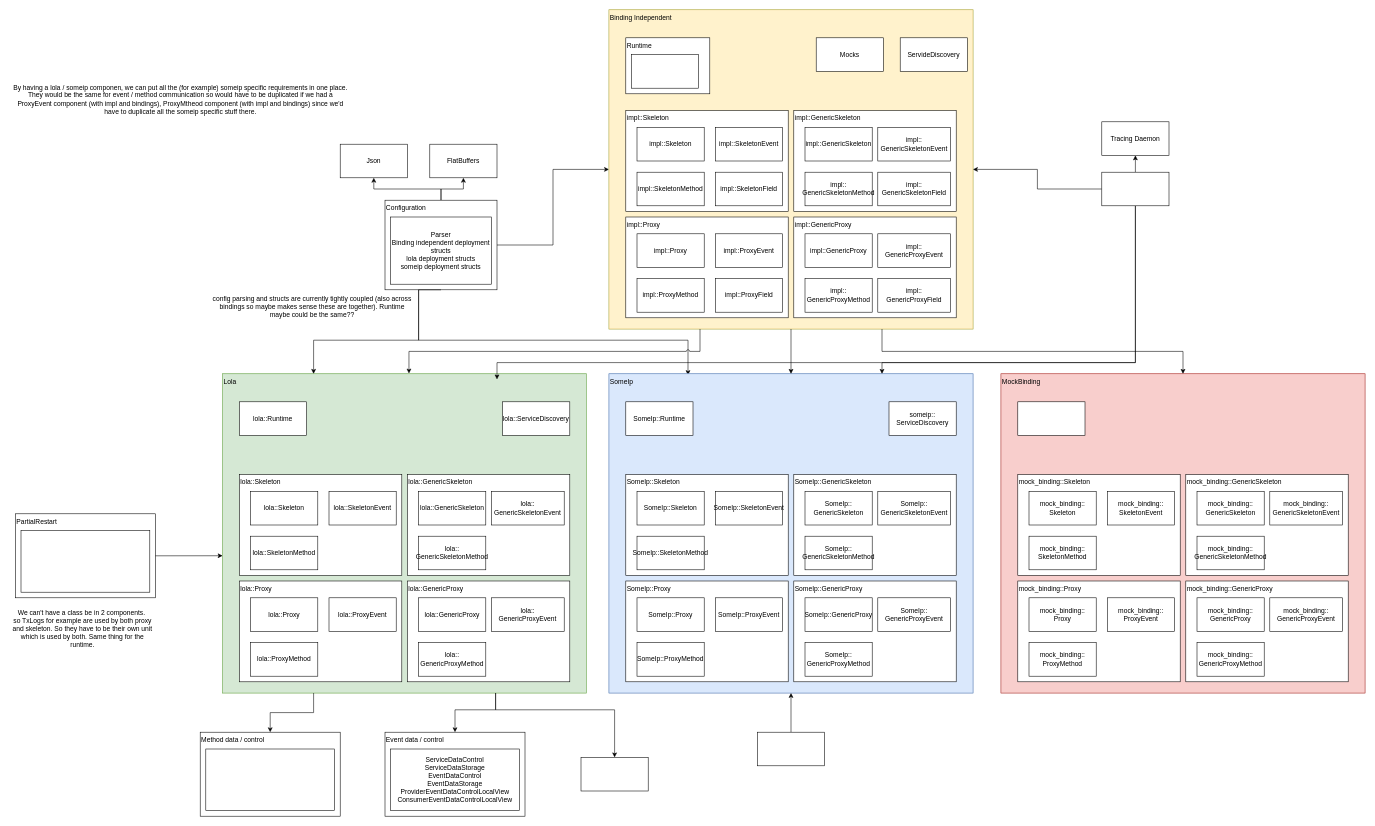
Some shapes in this 1375 by 826 pixel diagram are drawn without their labels. Here are the shapes that lost their labels. From the top down, the centre of each, then its label:
At (x=665, y=71): "Runtime impl::Runtime".
At (x=1135, y=189): "Tracing".
At (x=1051, y=418): "mock_binding:: Runtime".
At (x=85, y=561): "TransactionLog TransactionLogSet".
At (x=791, y=749): "Someip Daemon".
At (x=270, y=779): "MethodData TypeErasedCallQueue".
At (x=614, y=774): "lib/memory/shared".
